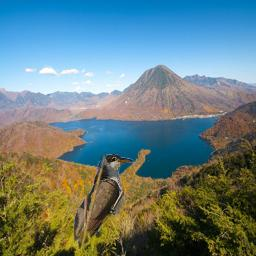Cuckoo: (73, 154, 148, 249)
